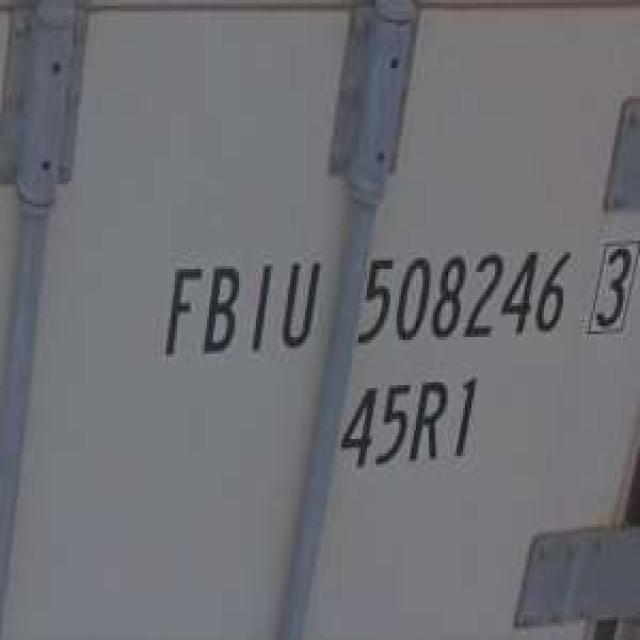dv: (584, 235, 640, 338)
owner: (158, 245, 323, 364)
serial: (351, 246, 575, 347)
size: (336, 361, 484, 482)
